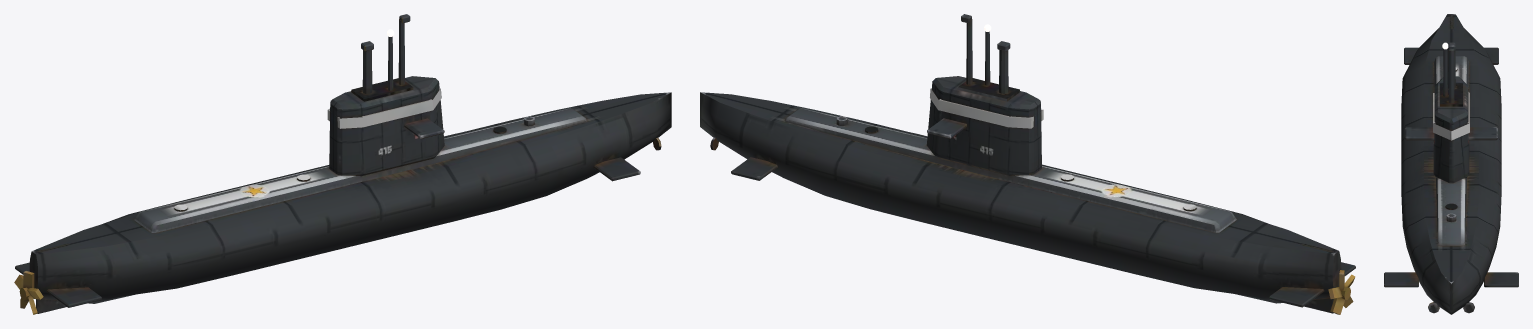
File: ss.soviet.glb
3 renders of one model, left to right at view 1: azimuth 30°, elevation 25°; view 2: azimuth 150°, elevation 25°; view 3: azimuth 270°, elevation 25°, orthographic. The views are drawn at different scales.
Visible parts, largest first — view 1: hull_mesh, masts_mesh, prop_mesh; view 2: hull_mesh, masts_mesh, prop_mesh; view 3: hull_mesh, masts_mesh.
Part boxes in pixels (<box>): hull_mesh: <box>15,76,671,313</box>; masts_mesh: <box>361,14,410,93</box>; prop_mesh: <box>14,271,43,314</box>; hull_mesh: <box>700,76,1355,313</box>; masts_mesh: <box>961,14,1010,93</box>; prop_mesh: <box>1328,270,1355,314</box>; hull_mesh: <box>1384,14,1518,314</box>; masts_mesh: <box>1442,42,1455,103</box>.
Bounding box in the file's own units: 1.32 × 0.416 × 0.27.
Materials: 2 (1 with a texture image).
